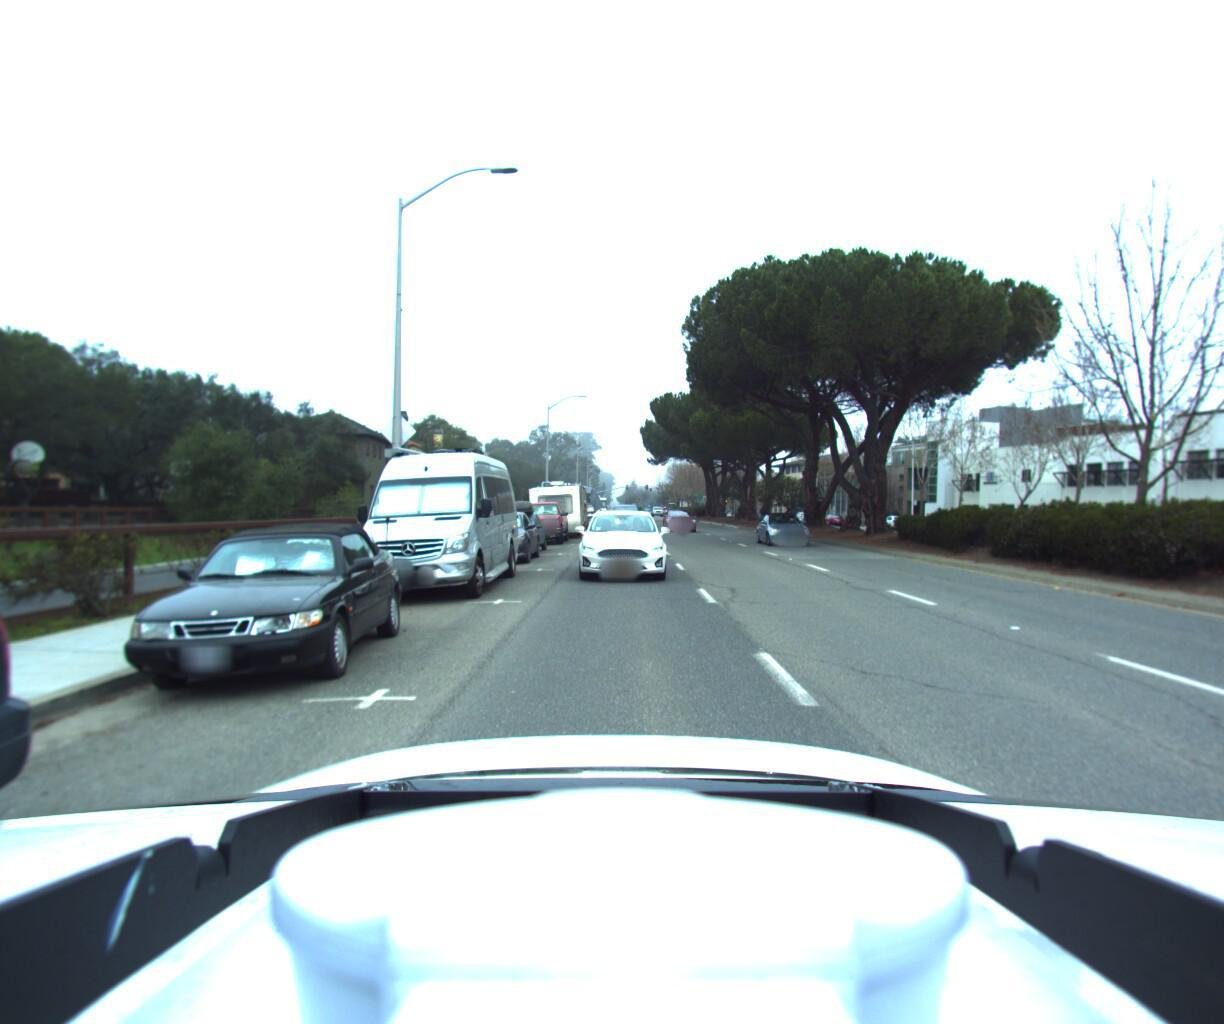car: (85, 515, 408, 714), (335, 420, 523, 603), (567, 503, 663, 580), (521, 467, 592, 541), (462, 506, 545, 563), (486, 498, 556, 550), (514, 498, 570, 546), (760, 510, 820, 547), (664, 507, 701, 532)
other_vehicle: (537, 475, 593, 535), (559, 481, 605, 530)
